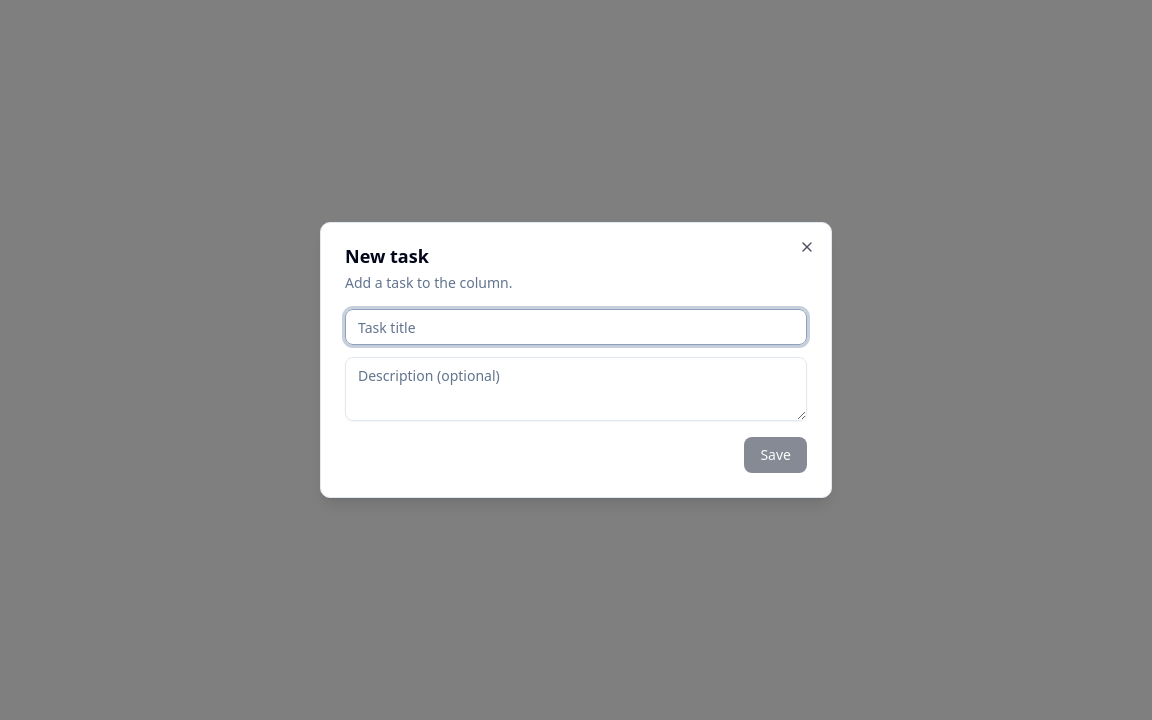
Test: TaskDialog › keeps Save disabled until a title is entered
Expected: the button "Save" is disabled, [744,437,807,473]
In the field with placeholder "Task title": (576, 327) [345,309,807,345], type "x"
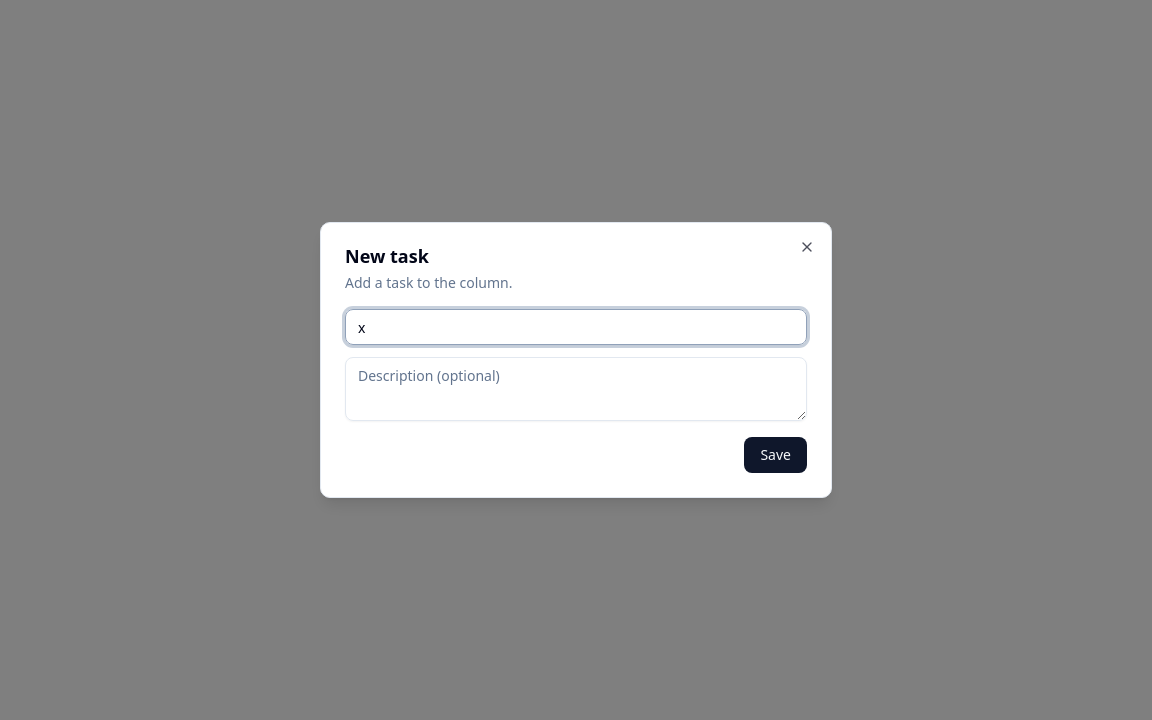
Expected: the button "Save" is enabled, [744,437,807,473]
